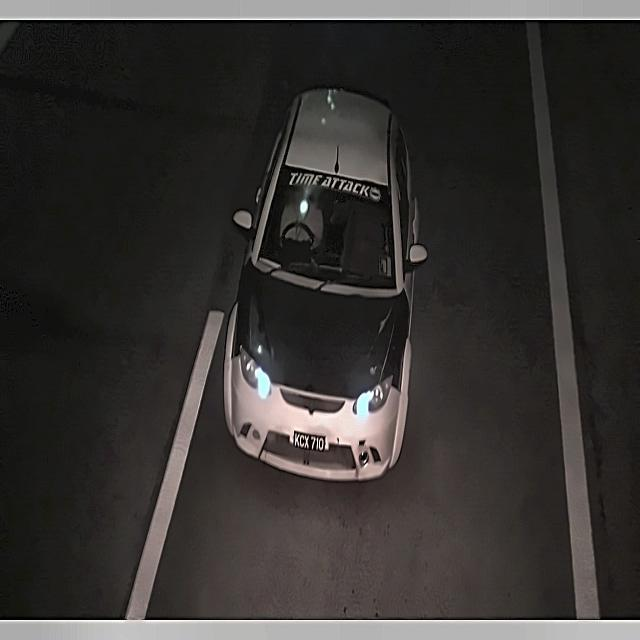car: (289, 426, 336, 458)
